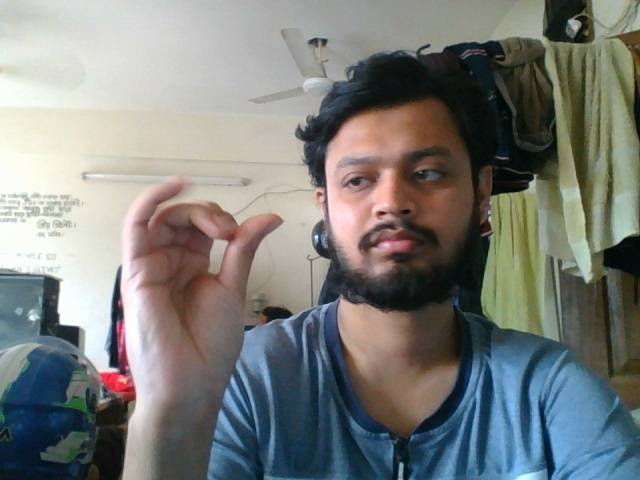oi: (105, 169, 291, 422)
